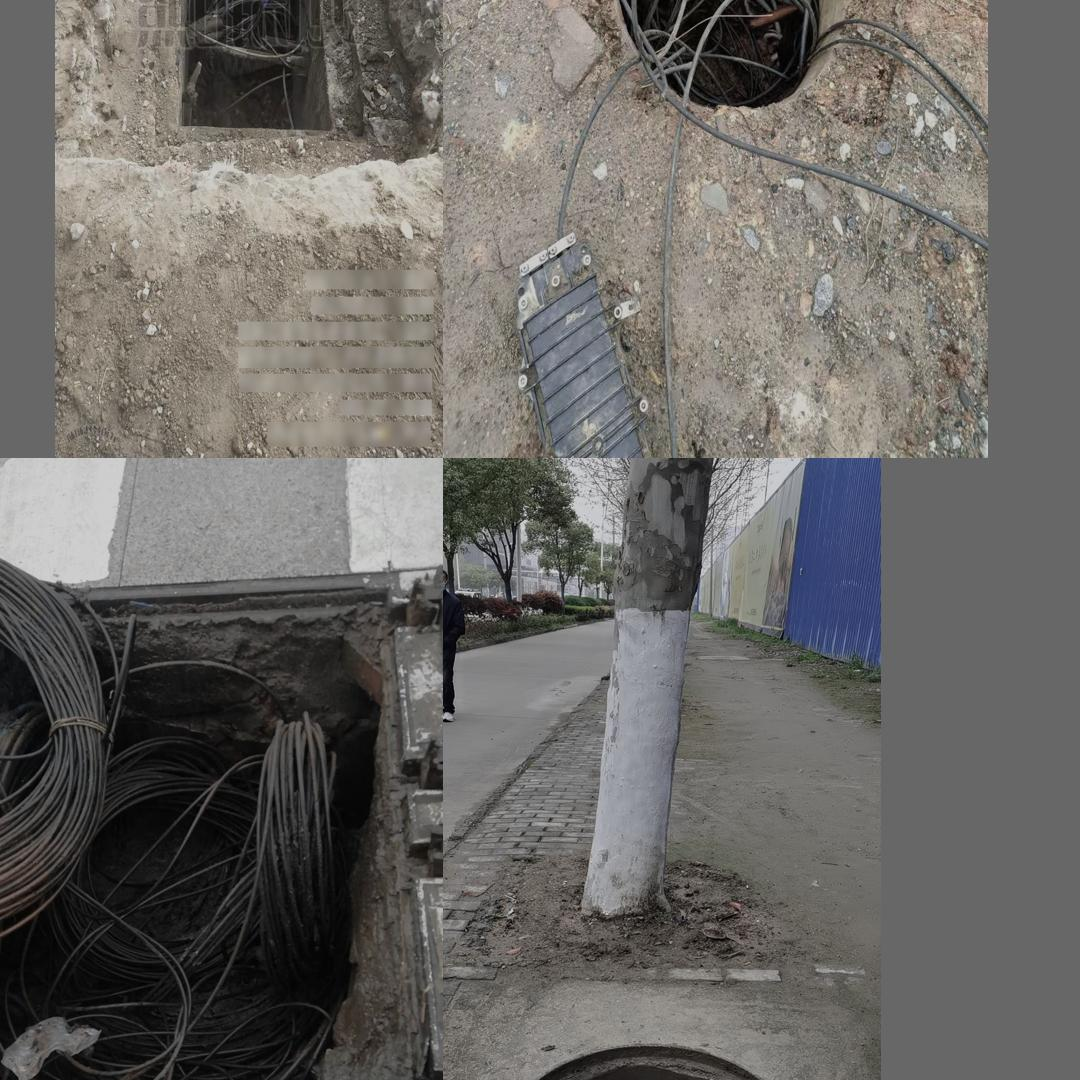lose: (0, 565, 429, 1080), (603, 0, 844, 108), (177, 0, 334, 133), (496, 1039, 802, 1080)
